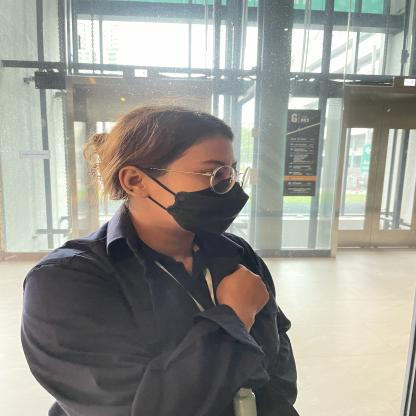Sadness: (150, 252, 310, 353)
